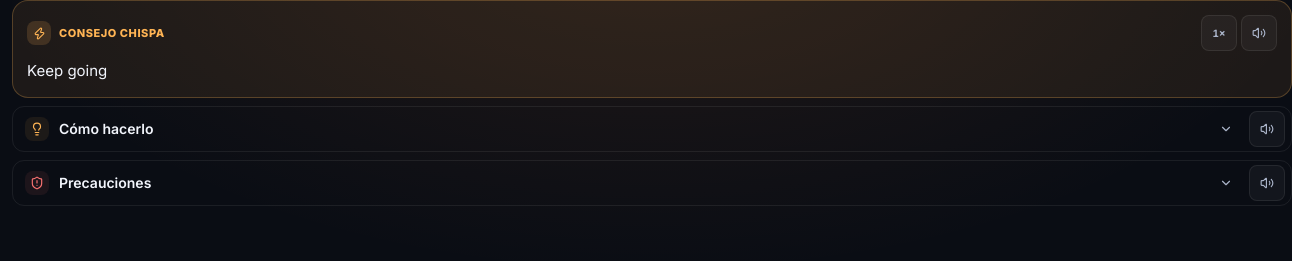
it: ExerciseExplainer › renders precautions section when field is provided
Expected: the text "Precauciones" is shown, [59,174,151,191]
Click the button "Precauciones". click: {"x": 105, "y": 183}
box: [13,161,1245,205]
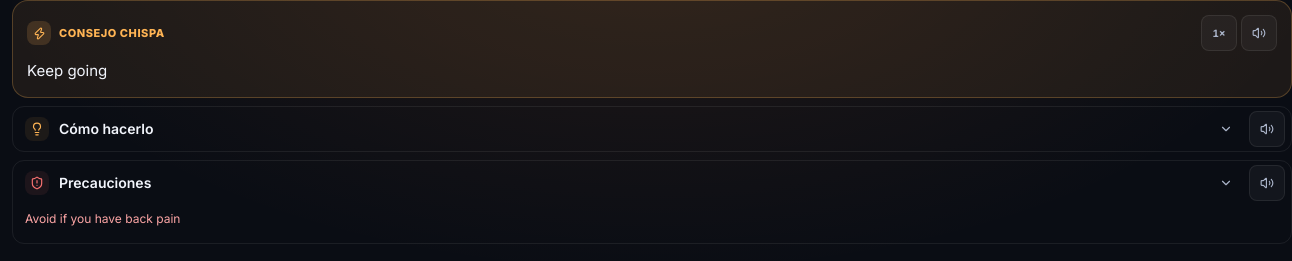
Expected: the text "Avoid if you have back pain" is shown, [25,211,180,226]
